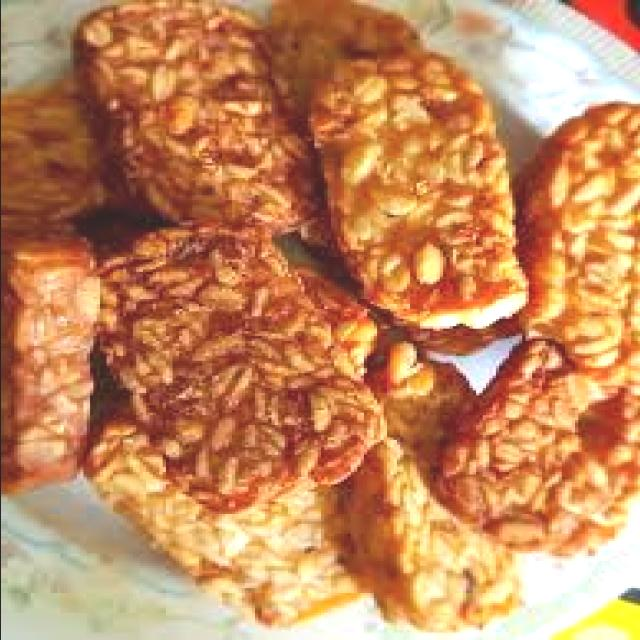tempe goreng: (102, 205, 371, 521), (314, 32, 516, 340), (92, 6, 292, 244), (517, 90, 635, 390)
